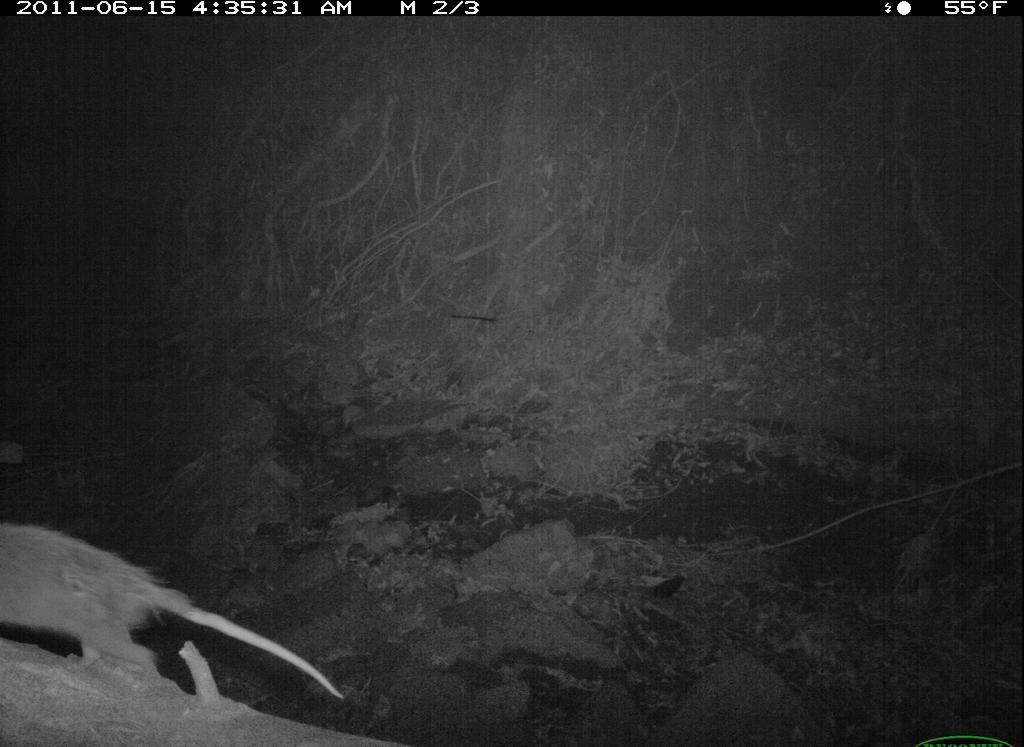opossum: (1, 506, 353, 715)
